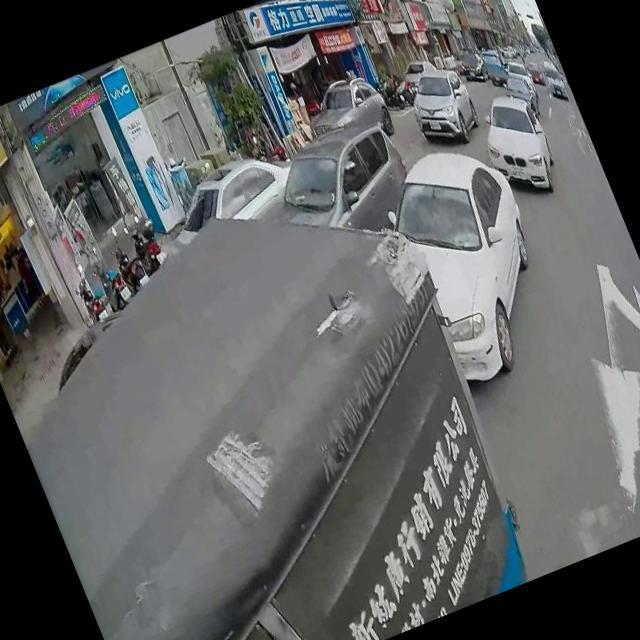person: (6, 246, 49, 318), (0, 285, 20, 368)
